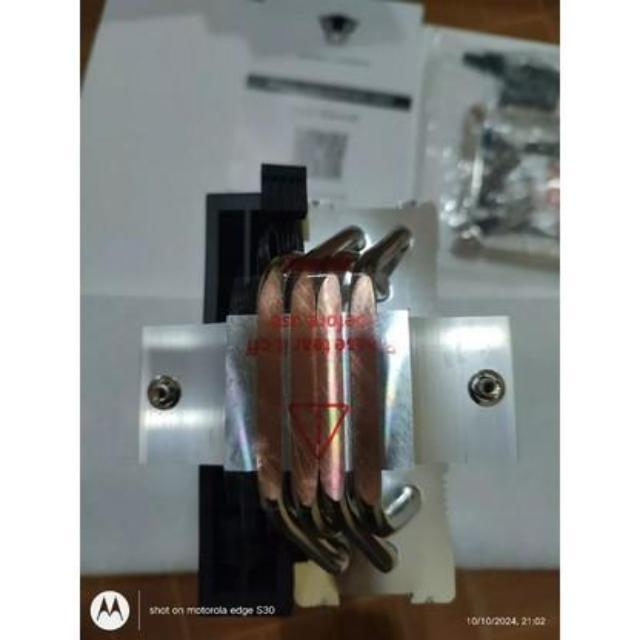CPU_Fan: (148, 164, 503, 612)
